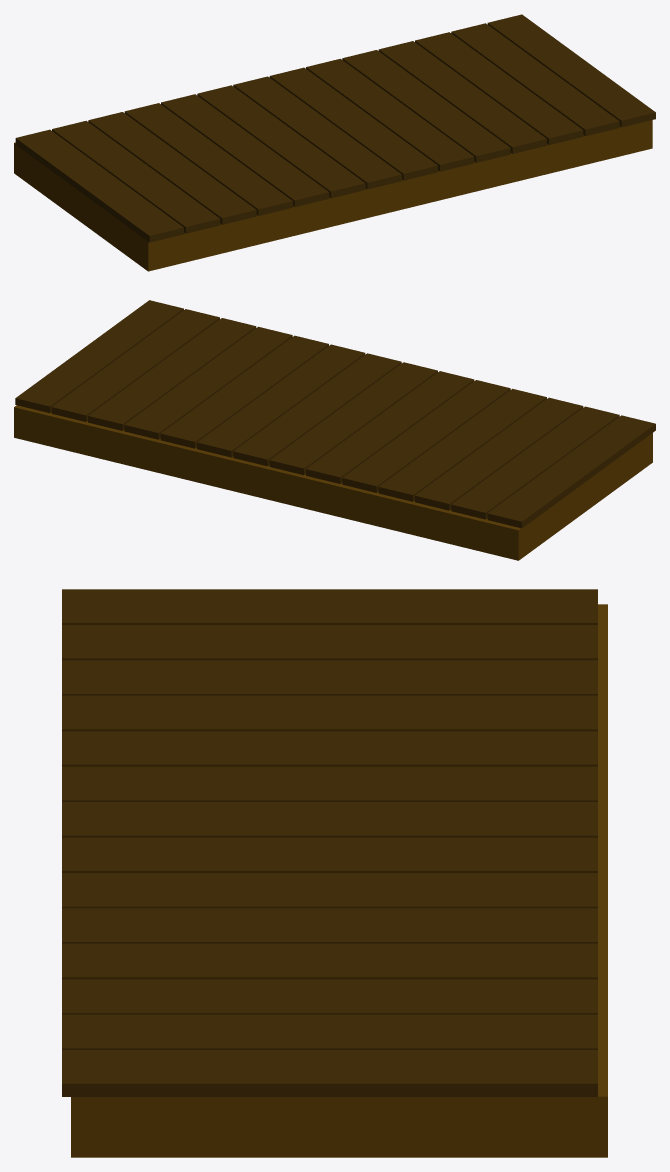
The model's file is stage.glb.
3 renders of one model, top to bottom at view 1: azimuth 30°, elevation 25°; view 2: azimuth 150°, elevation 25°; view 3: azimuth 270°, elevation 25°, orthographic. The views are drawn at different scales.
Parts seen in each view (by area): view 1: Stage; view 2: Stage; view 3: Stage.
Boxes of the visible parts, box(x1,y1,x2,y2) form: Stage: box(14, 14, 655, 271); Stage: box(14, 300, 655, 560); Stage: box(62, 589, 607, 1157).
Bounding box in the file's own units: 15.36 × 1.08 × 7.17.
Materials: 1 (1 with a texture image).
